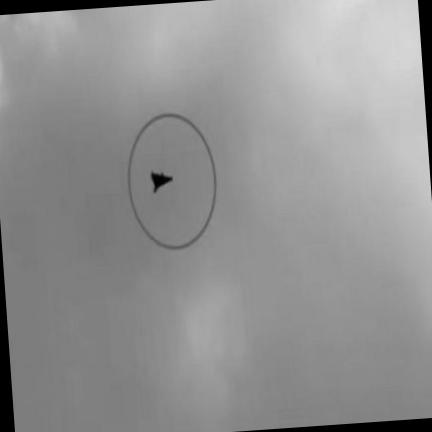Shahed: (150, 172, 172, 193)
